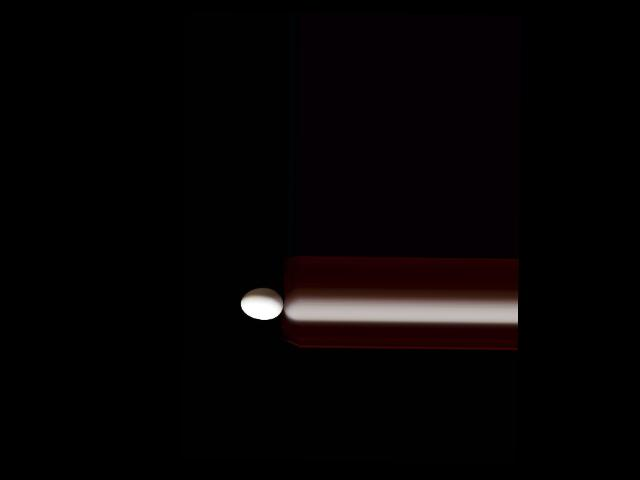egg: (240, 288, 283, 320)
